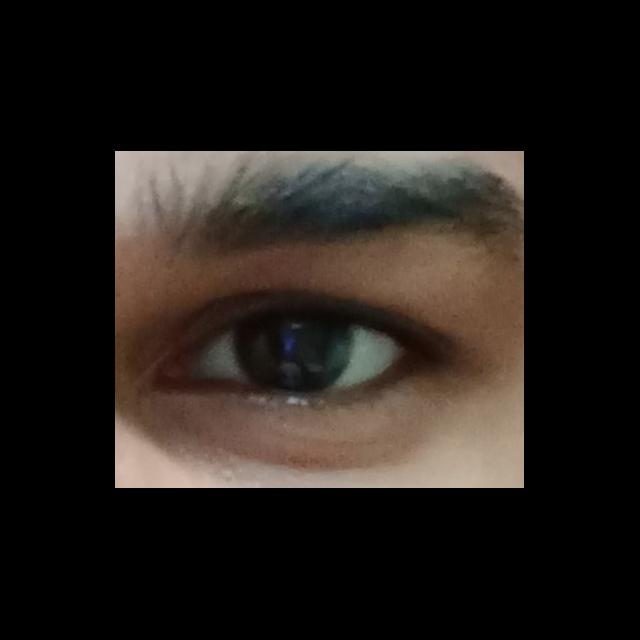eye: (187, 314, 404, 391)
iris: (231, 316, 356, 389)
